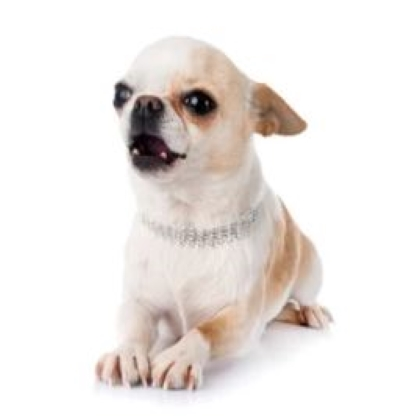chihuahua: (94, 34, 335, 393)
